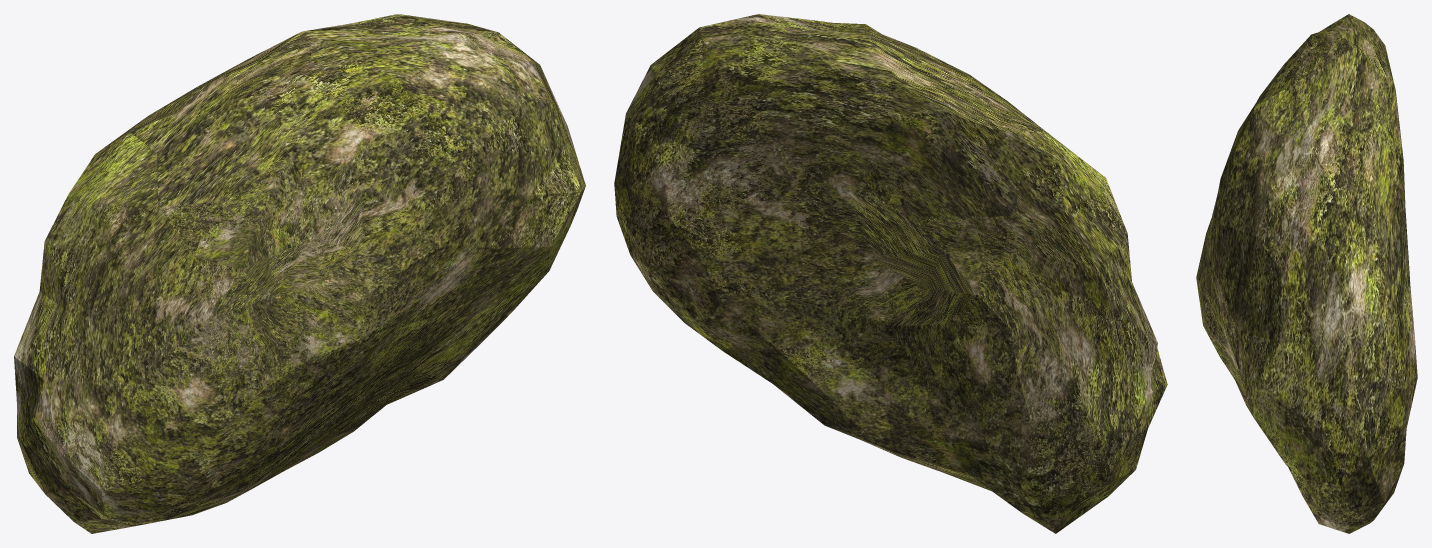
The model's file is boulder_2.dae.
The picture shows the model from 3 angles, left to right: view 1: azimuth 30°, elevation 25°; view 2: azimuth 150°, elevation 25°; view 3: azimuth 270°, elevation 25°; orthographic projection. The views are drawn at different scales.
Visible parts, largest first — view 1: node; view 2: node; view 3: node.
Part boxes in pixels (x1=…): node: x1=14, y1=14, x2=585, y2=533; node: x1=614, y1=14, x2=1167, y2=533; node: x1=1196, y1=14, x2=1417, y2=533.
Bounding box in the file's own units: 12.88 × 10.17 × 3.99.
Materials: 1 (1 with a texture image).
